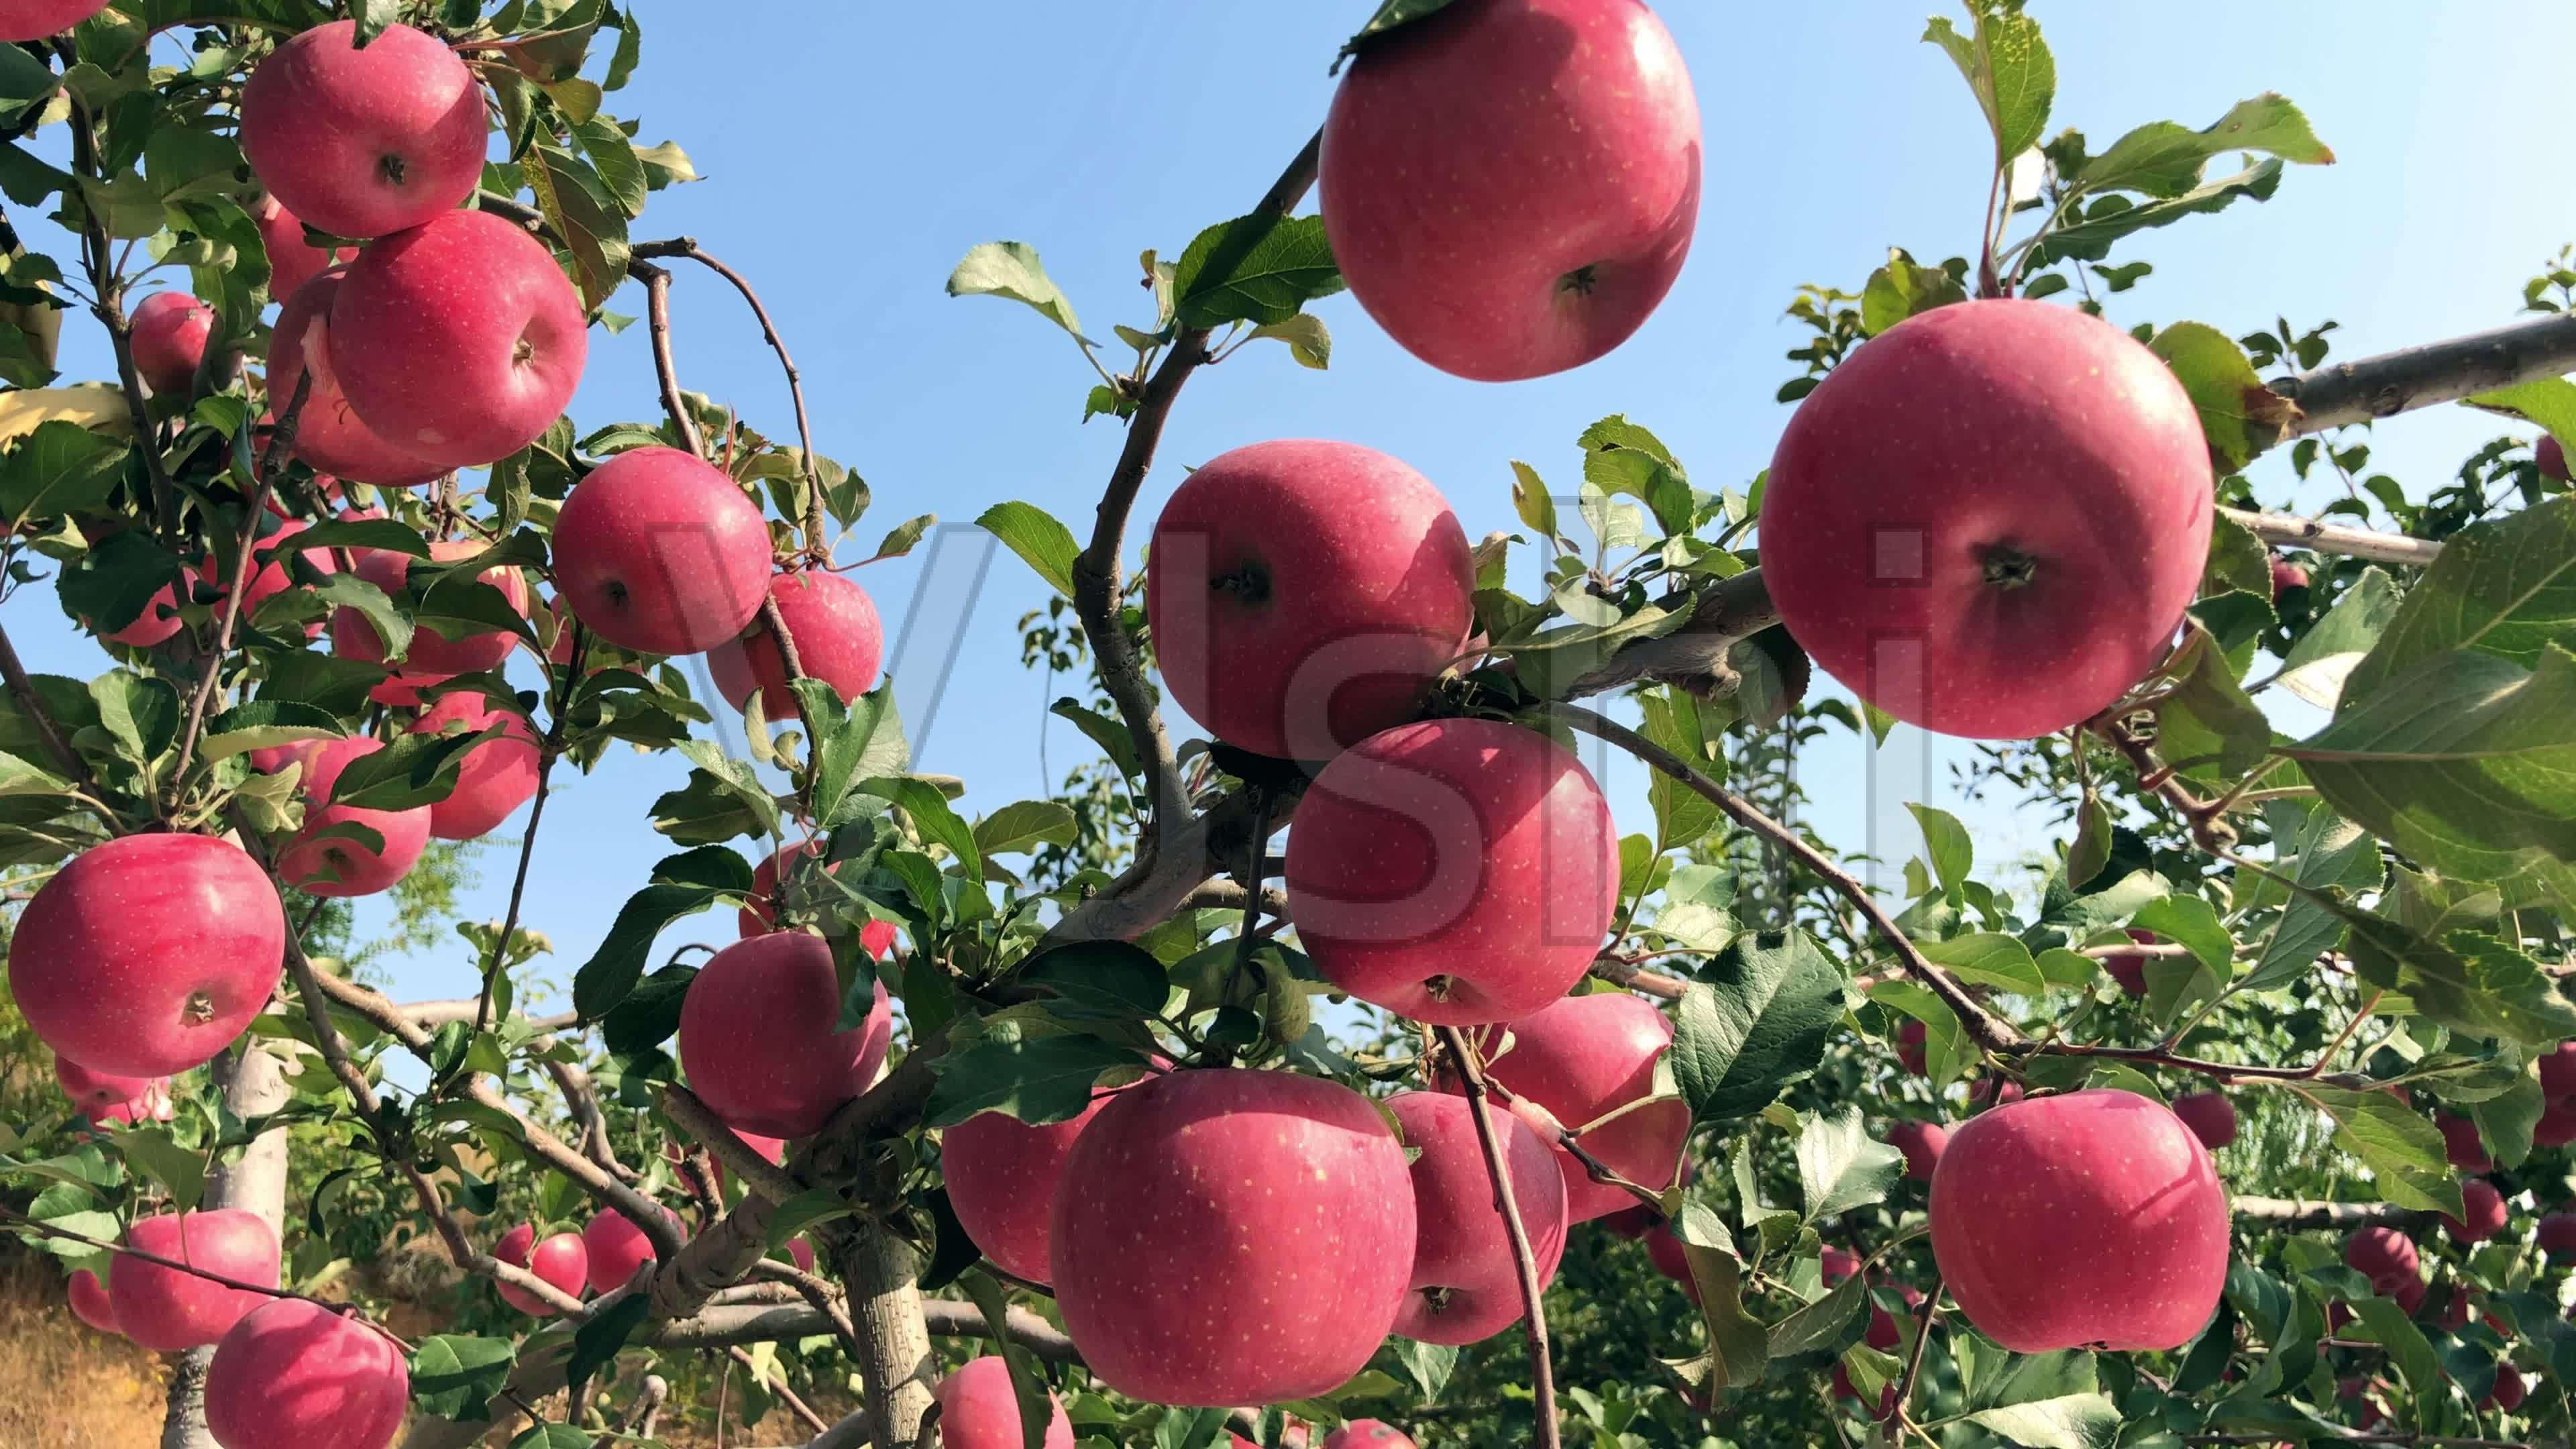apple: (1744, 294, 2215, 747), (1313, 0, 1707, 386), (1067, 1074, 1421, 1412), (1146, 439, 1486, 740), (1284, 725, 1624, 1026), (1928, 1086, 2231, 1368), (294, 216, 582, 481), (12, 830, 287, 1108), (244, 18, 494, 246), (552, 444, 778, 660), (681, 929, 885, 1150), (200, 1293, 414, 1449), (713, 563, 885, 731), (108, 1215, 276, 1348), (131, 294, 219, 400), (2342, 1230, 2429, 1322), (504, 1230, 580, 1311)
